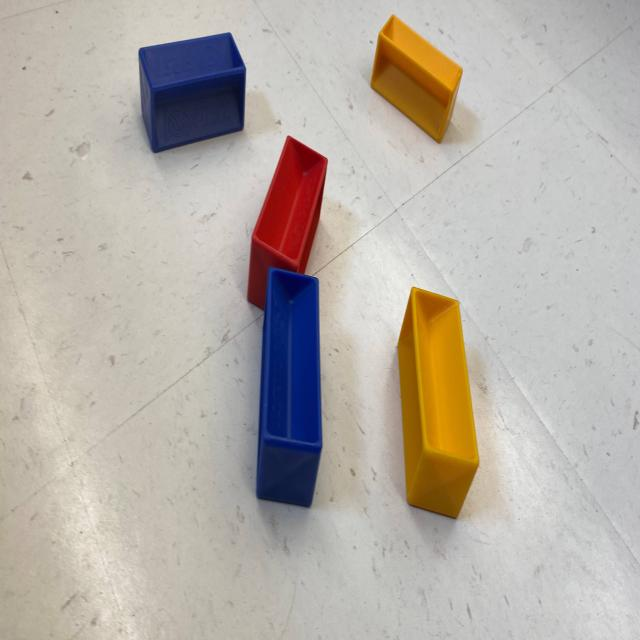blue-specimen: (255, 267, 323, 511), (135, 28, 248, 155)
red-specimen: (243, 128, 329, 309)
yellow-specimen: (393, 282, 482, 528), (367, 13, 462, 147)
